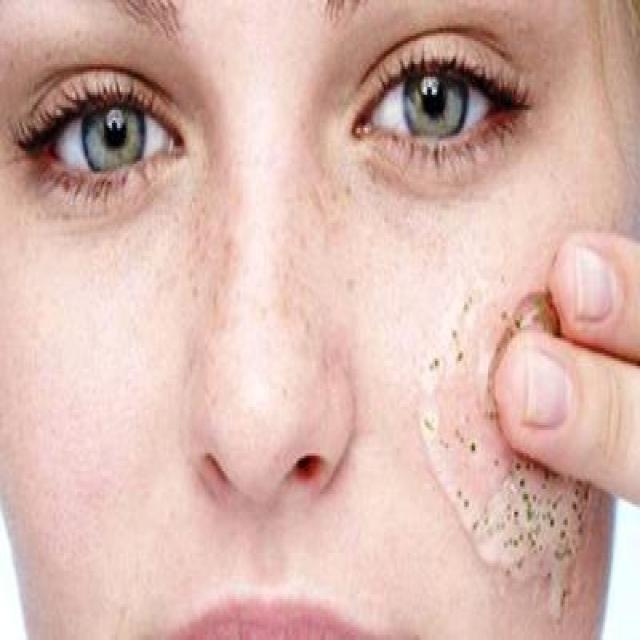dry: (102, 538, 200, 624), (187, 192, 239, 342), (330, 414, 379, 538)
